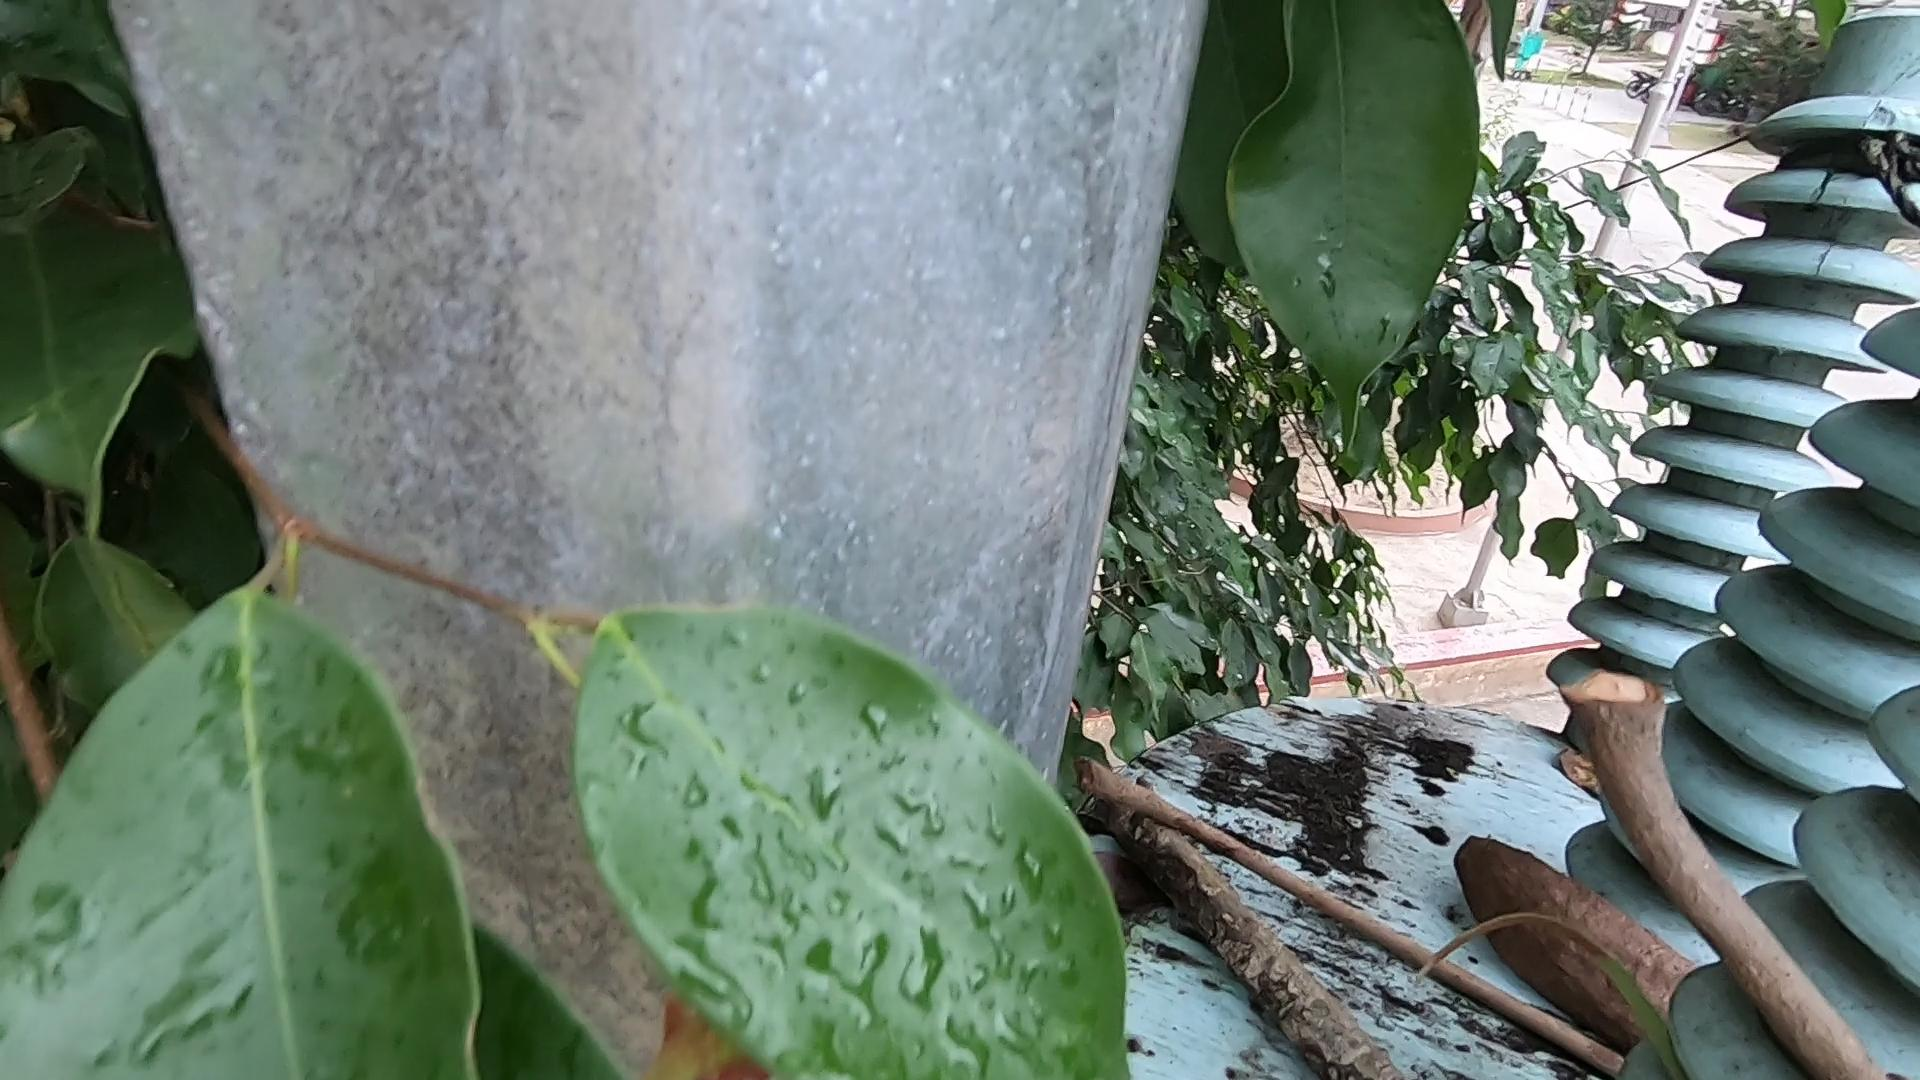branch with leaves: (1093, 789, 1389, 1080)
leaf: (1526, 735, 1677, 851), (1083, 832, 1162, 945)
mahogany fruit: (1435, 823, 1743, 1044)
tree branch: (1073, 746, 1625, 1055), (1568, 657, 1815, 1080)
